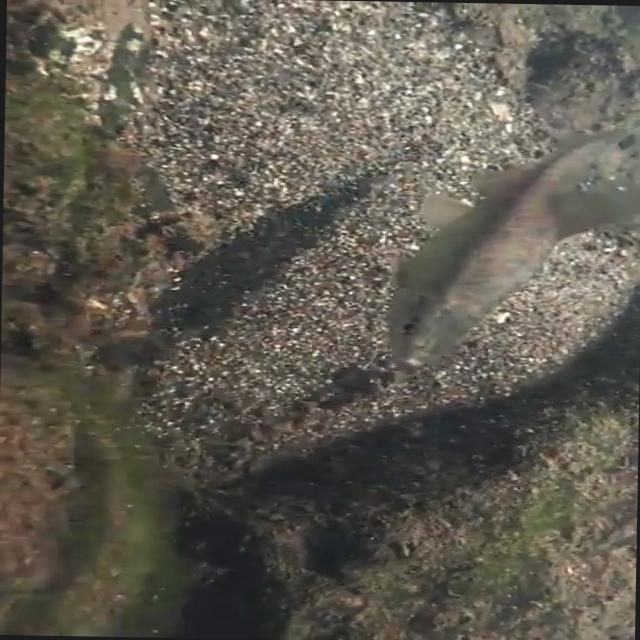Cakil Baligi: (382, 114, 634, 378)
